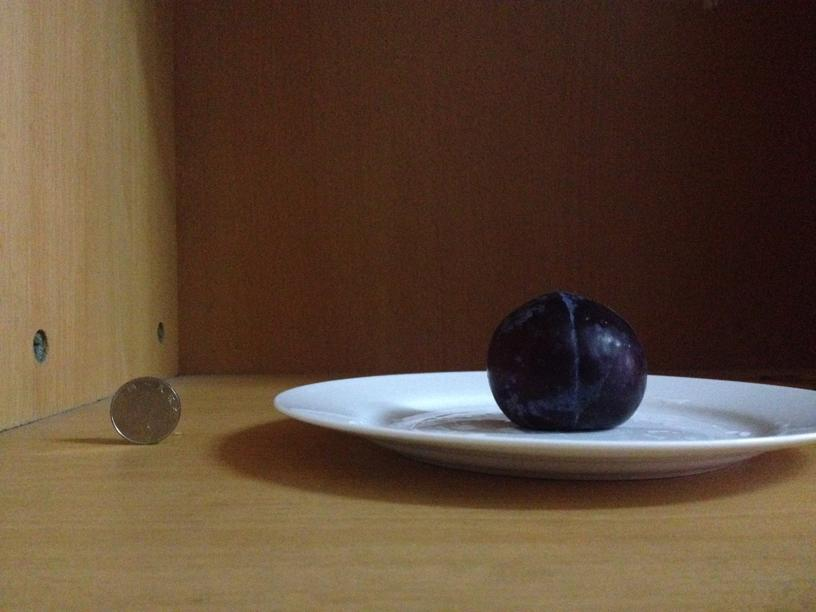coin: (103, 371, 188, 447)
plum: (492, 289, 647, 434)
